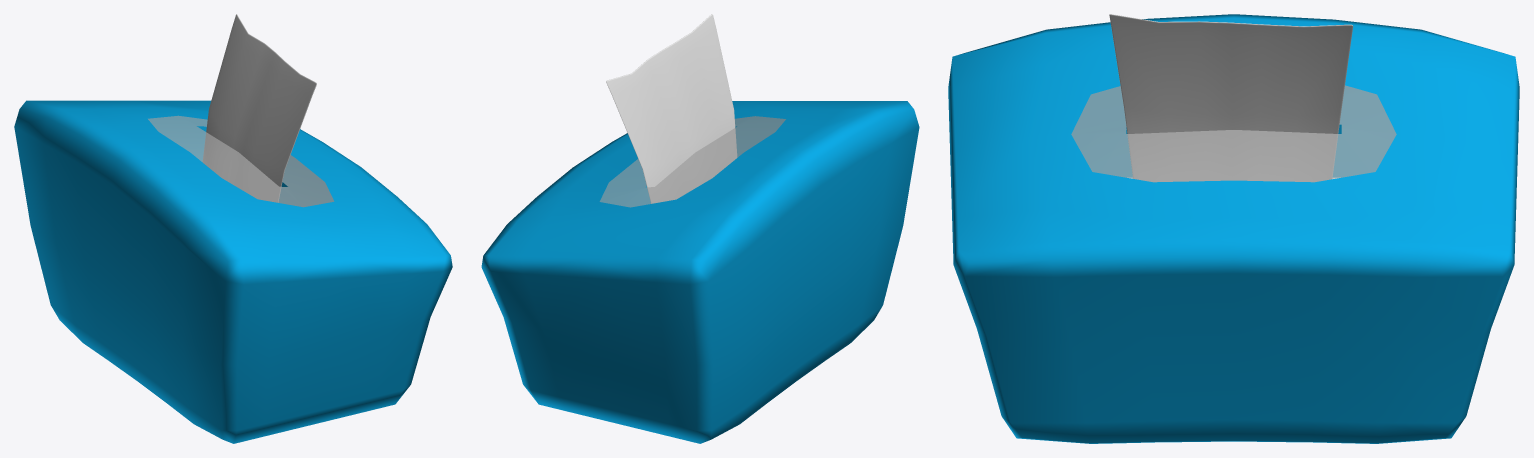
Rendered from tissue_high.fbx.
3 views of the same model, side by side, from view 1: azimuth 30°, elevation 25°; view 2: azimuth 150°, elevation 25°; view 3: azimuth 270°, elevation 25° (orthographic). The views are drawn at different scales.
Parts seen in each view (by area): view 1: Kleenex_opt:tissueBox1, Kleenex_opt:tissueSingle; view 2: Kleenex_opt:tissueBox1, Kleenex_opt:tissueSingle; view 3: Kleenex_opt:tissueBox1, Kleenex_opt:tissueSingle.
Part boxes in pixels (bbox=[...]): Kleenex_opt:tissueBox1: bbox=[14, 100, 452, 443]; Kleenex_opt:tissueSingle: bbox=[203, 14, 316, 202]; Kleenex_opt:tissueBox1: bbox=[481, 101, 919, 443]; Kleenex_opt:tissueSingle: bbox=[606, 14, 736, 203]; Kleenex_opt:tissueBox1: bbox=[948, 14, 1519, 443]; Kleenex_opt:tissueSingle: bbox=[1109, 14, 1353, 181].
Bounding box in the file's own units: 50.98 × 60.59 × 77.86.
